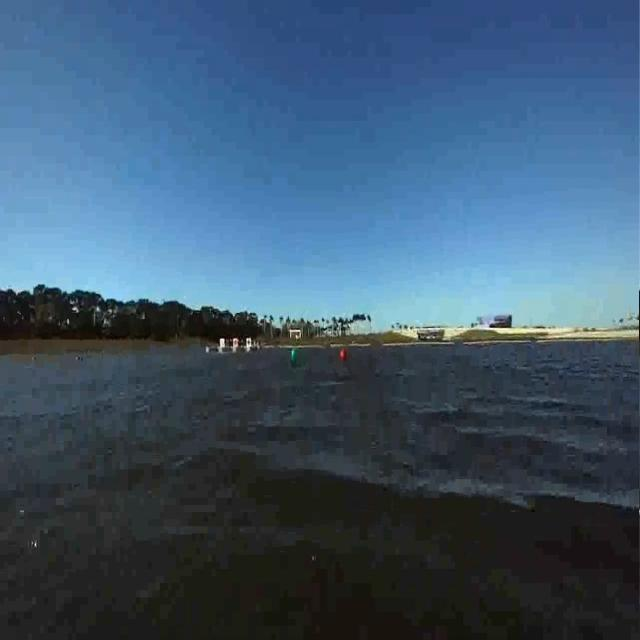green-buoy: (287, 345, 311, 365)
red-buoy: (336, 338, 351, 366)
